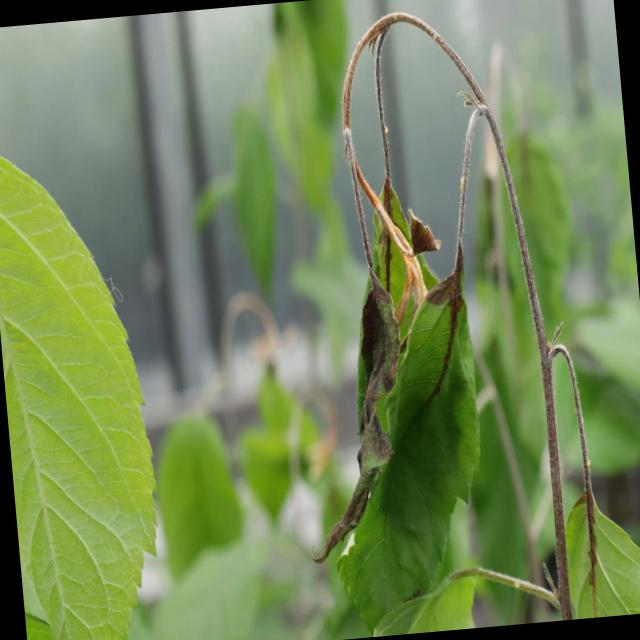-FireBlight-: (332, 27, 438, 324)
